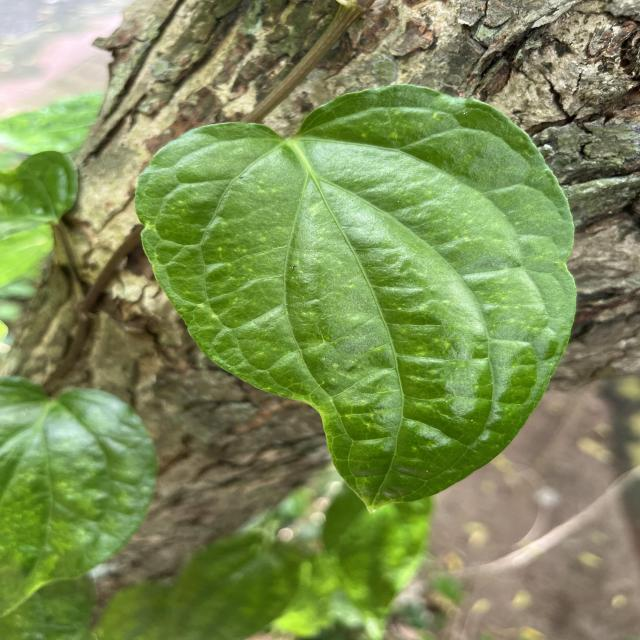Piper betle: (129, 80, 584, 518)
